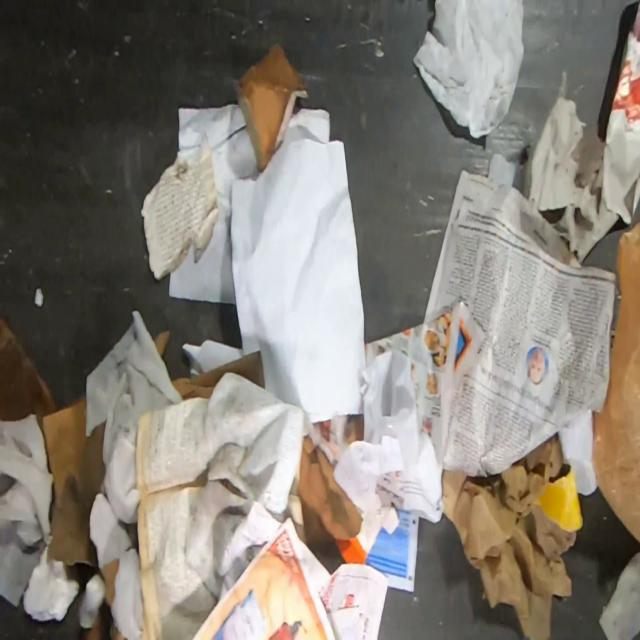cardboard: (33, 394, 149, 639), (236, 41, 309, 174), (0, 307, 60, 423), (172, 350, 266, 401), (154, 328, 172, 358)
soft_plastic: (590, 215, 640, 548), (414, 0, 526, 140)
